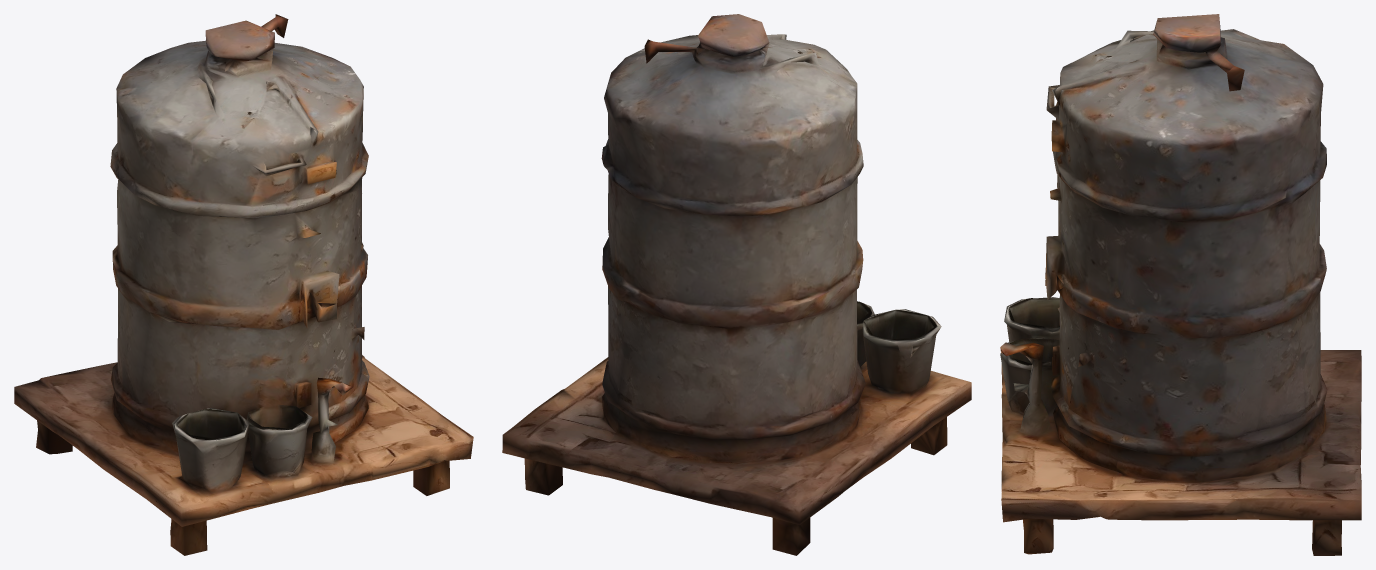
Rendered from b_watertank.glb.
3 renders of one model, left to right at view 1: azimuth 30°, elevation 25°; view 2: azimuth 150°, elevation 25°; view 3: azimuth 270°, elevation 25°, orthographic. The views are drawn at different scales.
Visible parts, largest first — view 1: tripo_node_8ec78248-d627-44cf-8e35-fcfc7d4c6539; view 2: tripo_node_8ec78248-d627-44cf-8e35-fcfc7d4c6539; view 3: tripo_node_8ec78248-d627-44cf-8e35-fcfc7d4c6539.
Part boxes in pixels (x1,y1,x2,y2): tripo_node_8ec78248-d627-44cf-8e35-fcfc7d4c6539: (14,14,473,555); tripo_node_8ec78248-d627-44cf-8e35-fcfc7d4c6539: (502,14,971,555); tripo_node_8ec78248-d627-44cf-8e35-fcfc7d4c6539: (1000,14,1361,555).
Size of the model in its own units: 0.7067 by 1 by 0.707.
1 material, 1 textured.
